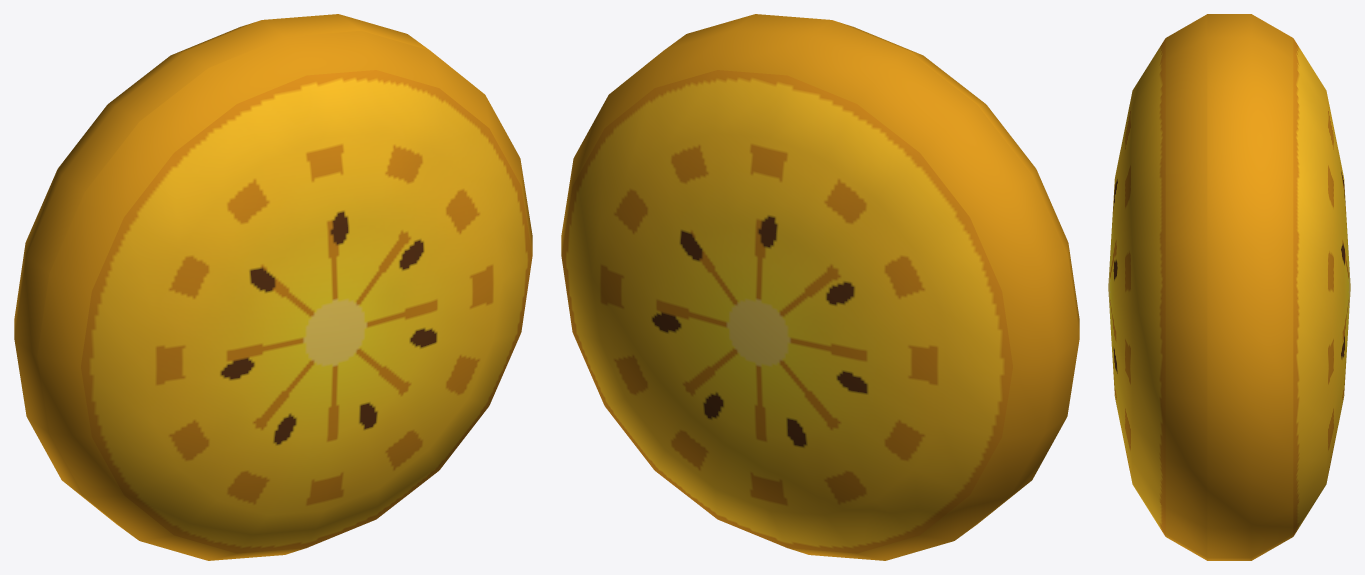
File: pickup_bread.glb
3 views of the same model, side by side, from view 1: azimuth 30°, elevation 25°; view 2: azimuth 150°, elevation 25°; view 3: azimuth 270°, elevation 25° (orthographic). The views are drawn at different scales.
Parts seen in each view (by area): view 1: pickup_bread; view 2: pickup_bread; view 3: pickup_bread.
Boxes of the visible parts, bbox=[...] form: pickup_bread: bbox=[14, 14, 532, 560]; pickup_bread: bbox=[561, 14, 1079, 560]; pickup_bread: bbox=[1108, 14, 1350, 560].
Bounding box in the file's own units: 0.5 × 0.5 × 0.22.
Materials: 1 (1 with a texture image).
